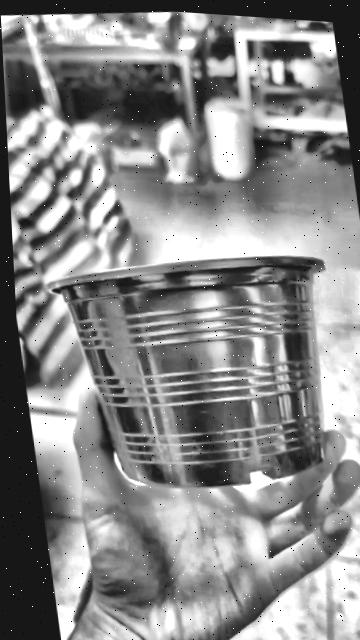pot: (49, 255, 322, 486)
